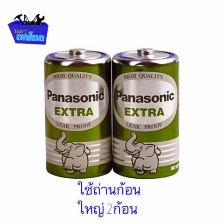battery: (108, 43, 183, 178), (38, 43, 111, 180)
